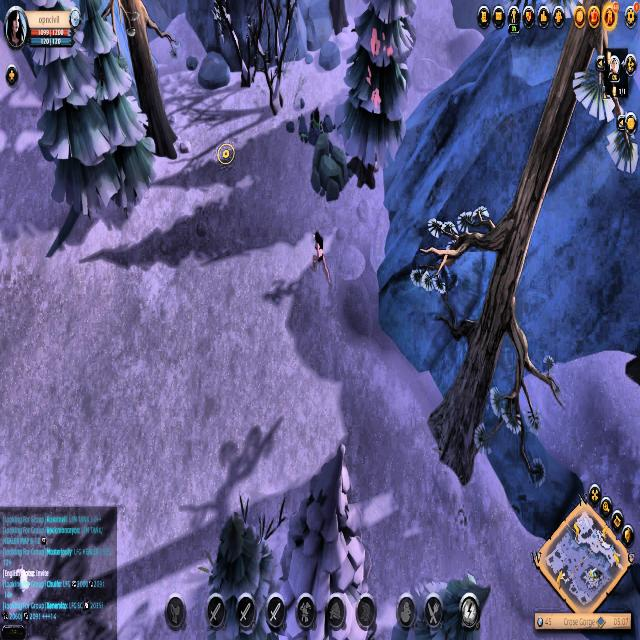sandstone: (308, 130, 353, 207)
